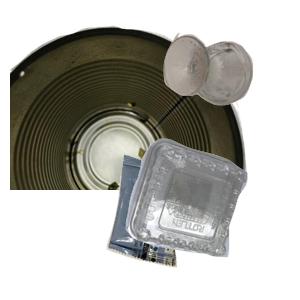glass: (161, 30, 300, 128)
metal: (10, 23, 250, 203)
plastic: (123, 136, 300, 300)
trash: (104, 152, 280, 300)
